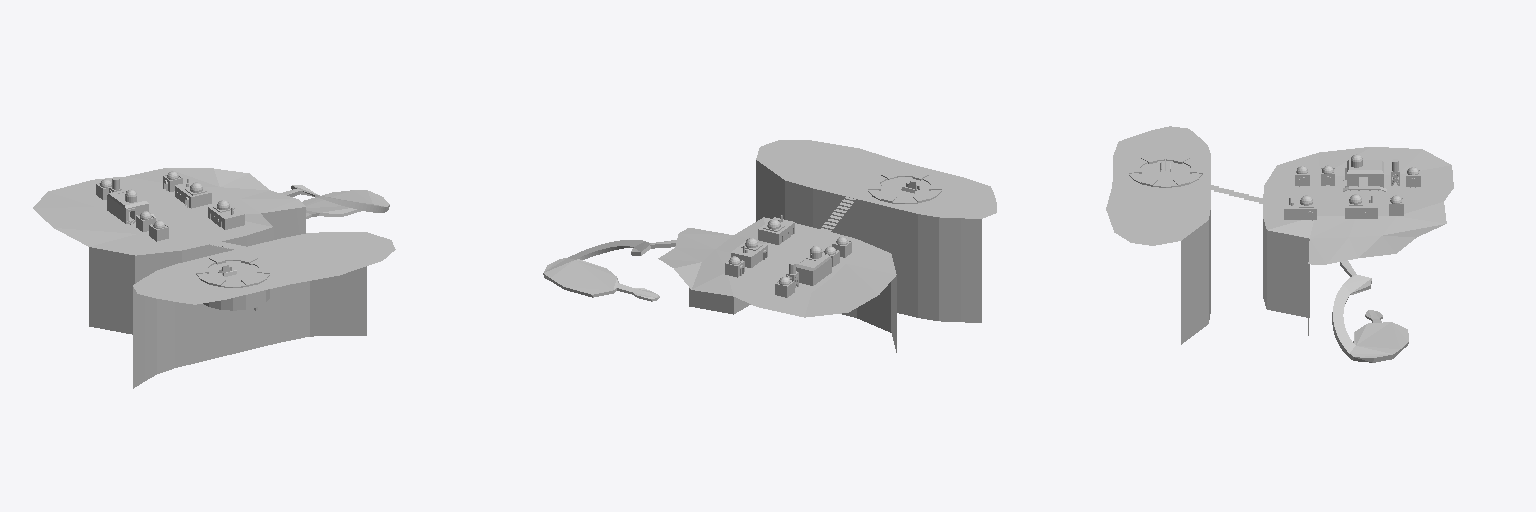
File: Blockout.obj
3 renders of one model, left to right at view 1: azimuth 30°, elevation 25°; view 2: azimuth 150°, elevation 25°; view 3: azimuth 270°, elevation 25°, orthographic.
Visible parts, largest first — view 1: Ground_Hangar, Ground_Village, HangarWalls, Cave_Deeps, Tabern, LargeHouse_1, LargeHouse_003; view 2: Ground_Hangar, Ground_Village, Cave_Deeps, HangarWalls, Tabern, LargeHouse_003, LargeHouse_1; view 3: Ground_Village, Ground_Hangar, Cave_Deeps, HangarWalls, Tabern, LargeHouse_003, LargeHouse_1, Cave_Entrance.
Part boxes in pixels (left/top/right/bottom): Ground_Hangar: left=133, top=232, right=395, bottom=388; Ground_Village: left=33, top=168, right=305, bottom=334; HangarWalls: left=196, top=255, right=269, bottom=310; Cave_Deeps: left=302, top=190, right=389, bottom=218; Tabern: left=107, top=189, right=148, bottom=224; LargeHouse_1: left=175, top=181, right=211, bottom=208; LargeHouse_003: left=208, top=200, right=244, bottom=229; Ground_Hangar: left=756, top=140, right=996, bottom=322; Ground_Village: left=658, top=217, right=896, bottom=352; Cave_Deeps: left=543, top=240, right=659, bottom=301; HangarWalls: left=868, top=172, right=941, bottom=203; Tabern: left=792, top=246, right=831, bottom=285; LargeHouse_003: left=758, top=217, right=794, bottom=244; LargeHouse_1: left=731, top=238, right=767, bottom=267; Ground_Village: left=1263, top=147, right=1453, bottom=335; Ground_Hangar: left=1106, top=126, right=1210, bottom=344; Cave_Deeps: left=1332, top=285, right=1408, bottom=362; HangarWalls: left=1129, top=155, right=1202, bottom=187; Tabern: left=1342, top=154, right=1383, bottom=187; LargeHouse_003: left=1284, top=195, right=1316, bottom=220; LargeHouse_1: left=1345, top=194, right=1377, bottom=218; Cave_Entrance: left=1340, top=260, right=1371, bottom=294.
Size of the model in its own units: 13493 by 4378 by 11708.